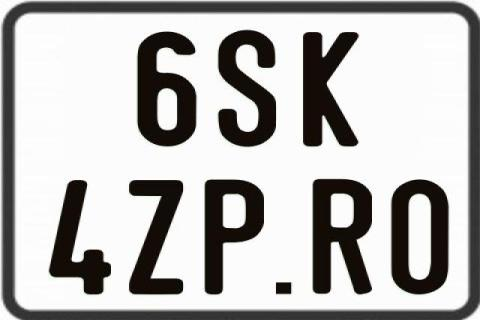0: (47, 180, 113, 299), (388, 177, 450, 297), (137, 32, 198, 146)
K: (302, 29, 363, 149)
P: (205, 179, 266, 299)
R: (310, 178, 374, 298)
S: (217, 27, 279, 149)
Z: (127, 178, 185, 294)
